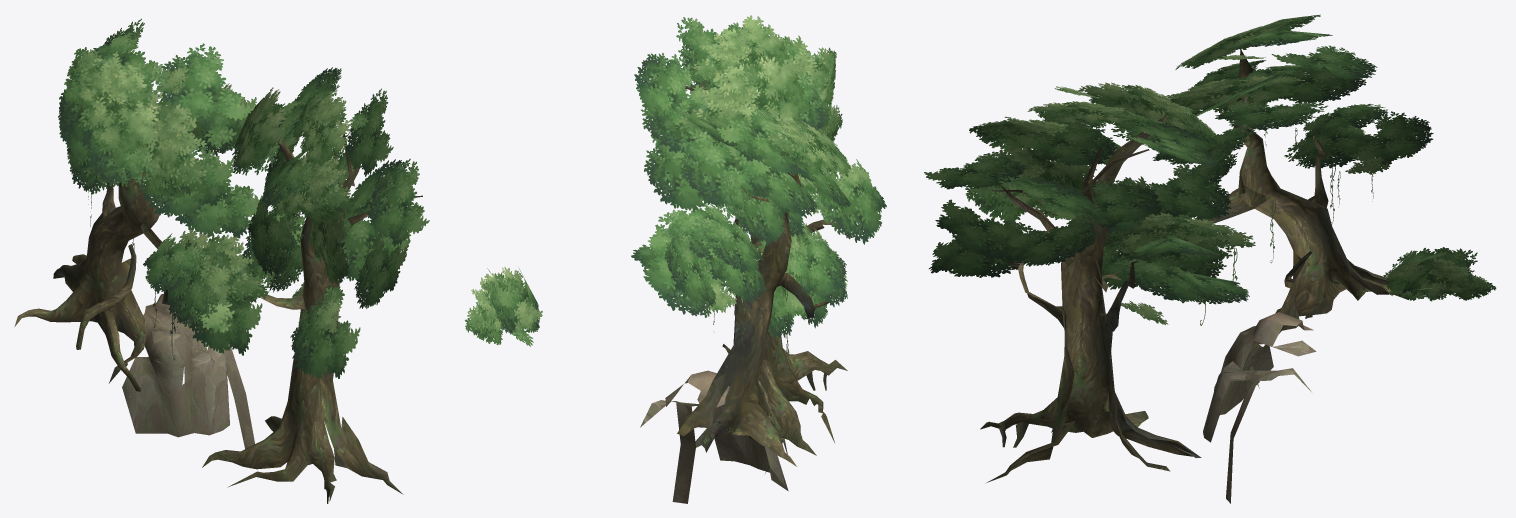
File: shu_06.FBX
3 renders of one model, left to right at view 1: azimuth 30°, elevation 25°; view 2: azimuth 150°, elevation 25°; view 3: azimuth 270°, elevation 25°, orthographic. The views are drawn at different scales.
Parts seen in each view (by area): view 1: shu_06; view 2: shu_06; view 3: shu_06.
Part boxes in pixels (x1,y1,x2,y2): shu_06: (14, 18, 429, 503); shu_06: (465, 15, 886, 503); shu_06: (924, 14, 1496, 503).
Bounding box in the file's own units: 4.49 × 6.49 × 7.99.
